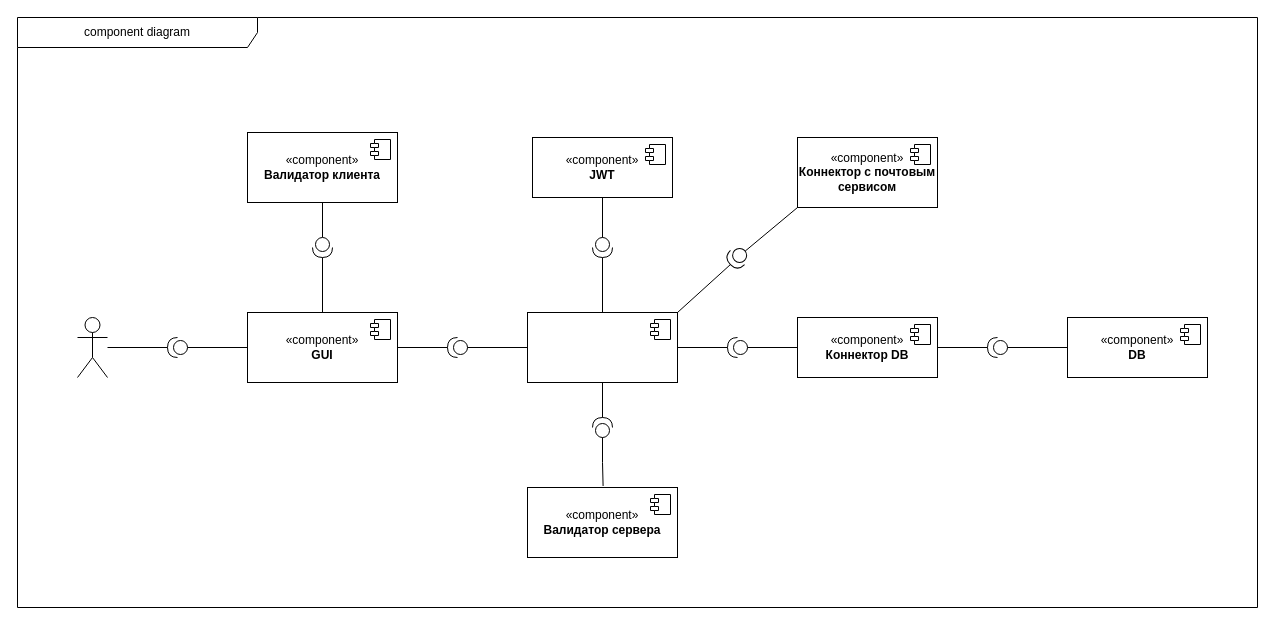
Some shapes in this 1275 by 625 pixel diagram are drawn without their labels. Here are the shapes that lost their labels. From the top down, the box of each, then its label:
(76, 316, 108, 378): Гость
(526, 312, 678, 382): «component» Обработчик команд
